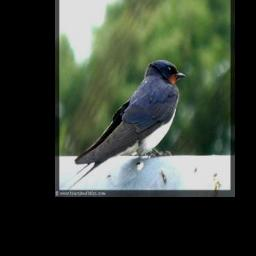Swallow: (60, 59, 186, 195)
